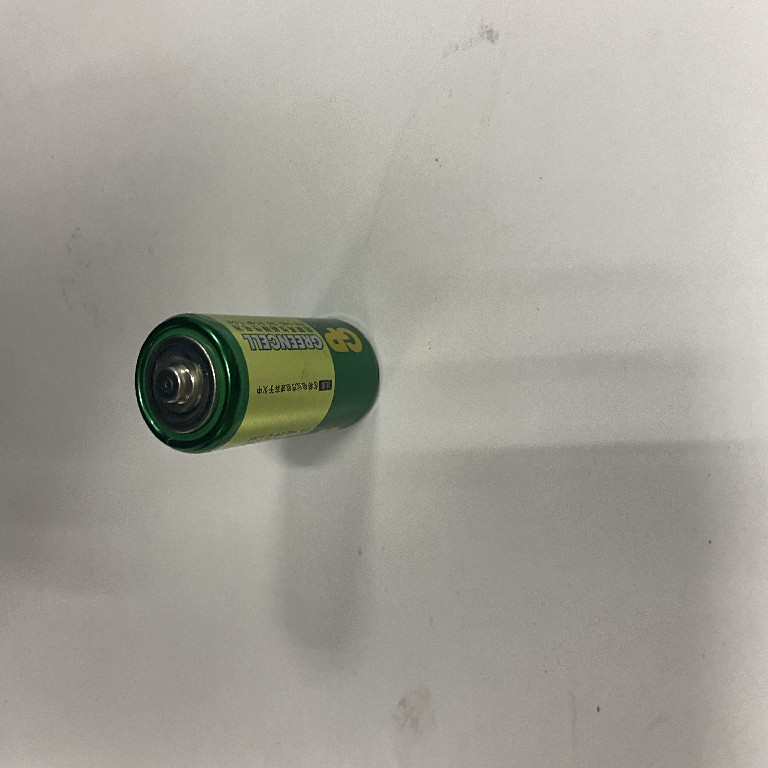charge: (129, 309, 387, 456)
